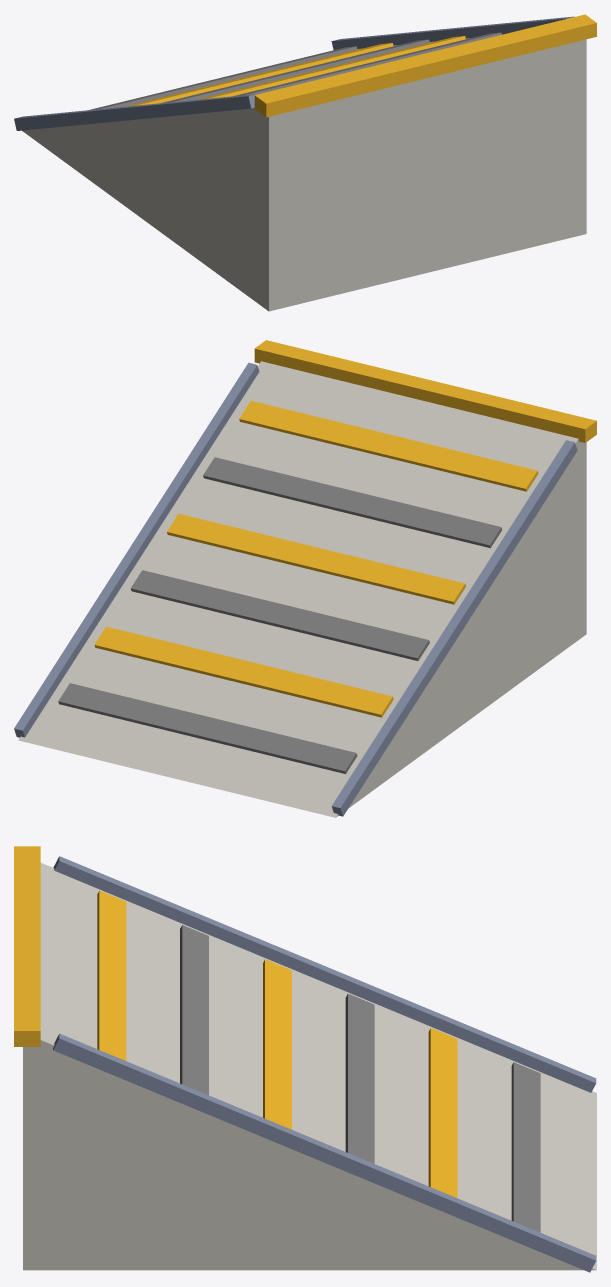
File: ramp.glb
The picture shows the model from 3 angles, top to bottom: view 1: azimuth 30°, elevation 25°; view 2: azimuth 150°, elevation 25°; view 3: azimuth 270°, elevation 25°; orthographic projection. The views are drawn at different scales.
Visible parts, largest first — view 1: ramp; view 2: ramp; view 3: ramp.
Boxes of the visible parts, x1,y1,x2,y2 form: ramp: [14, 14, 596, 311]; ramp: [14, 340, 596, 817]; ramp: [14, 846, 596, 1272].
Bounding box in the file's own units: 1.5 × 0.92 × 2.
